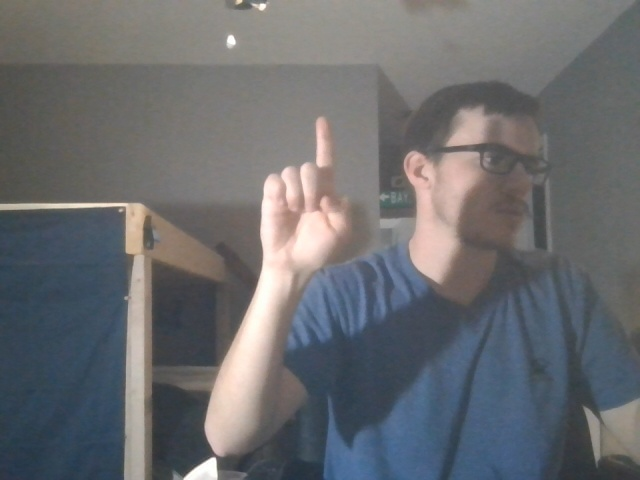D: (234, 110, 364, 274)
